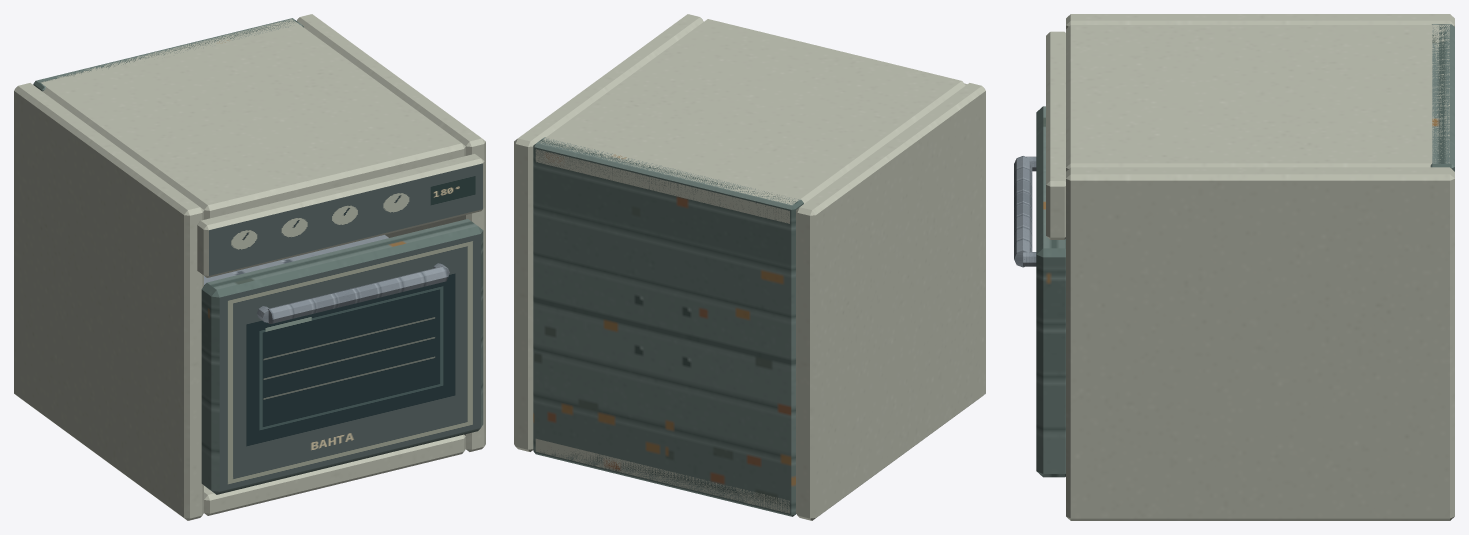
Rendered from MD_50_BuiltinOven.fbx.
3 renders of one model, left to right at view 1: azimuth 30°, elevation 25°; view 2: azimuth 150°, elevation 25°; view 3: azimuth 270°, elevation 25°, orthographic. The views are drawn at different scales.
Visible parts, largest first — view 1: MD_50_BuiltinOven_appliance_side, MD_50_BuiltinOven_oven_door, MD_50_BuiltinOven_appliance_end.001, MD_50_BuiltinOven_control_panel, MD_50_BuiltinOven_appliance_side.001, MD_50_BuiltinOven_appliance_end, MD_50_BuiltinOven_oven_handle_grip, MD_50_BuiltinOven_dark_cavity_back, MD_50_BuiltinOven_interior_rack.001; view 2: MD_50_BuiltinOven_dark_cavity_back, MD_50_BuiltinOven_appliance_side, MD_50_BuiltinOven_appliance_end.001, MD_50_BuiltinOven_appliance_side.001, MD_50_BuiltinOven_appliance_end; view 3: MD_50_BuiltinOven_appliance_side.001, MD_50_BuiltinOven_appliance_end.001, MD_50_BuiltinOven_oven_door, MD_50_BuiltinOven_appliance_side, MD_50_BuiltinOven_control_panel, MD_50_BuiltinOven_dark_cavity_back, MD_50_BuiltinOven_oven_handle_grip.
Part boxes in pixels (box(x1,y1,x2,y2)): MD_50_BuiltinOven_appliance_side: box(14, 83, 203, 520); MD_50_BuiltinOven_oven_door: box(201, 219, 483, 494); MD_50_BuiltinOven_appliance_end.001: box(40, 19, 465, 219); MD_50_BuiltinOven_control_panel: box(197, 154, 484, 277); MD_50_BuiltinOven_appliance_side.001: box(297, 14, 485, 451); MD_50_BuiltinOven_appliance_end: box(204, 434, 465, 515); MD_50_BuiltinOven_oven_handle_grip: box(267, 266, 447, 323); MD_50_BuiltinOven_dark_cavity_back: box(33, 18, 303, 91); MD_50_BuiltinOven_interior_rack.001: box(204, 235, 388, 284); MD_50_BuiltinOven_dark_cavity_back: box(533, 137, 803, 516); MD_50_BuiltinOven_appliance_side: box(796, 83, 985, 520); MD_50_BuiltinOven_appliance_end.001: box(535, 19, 965, 223); MD_50_BuiltinOven_appliance_side.001: box(514, 14, 703, 451); MD_50_BuiltinOven_appliance_end: box(535, 438, 789, 513); MD_50_BuiltinOven_appliance_side.001: box(1066, 167, 1454, 520); MD_50_BuiltinOven_appliance_end.001: box(1066, 25, 1449, 171); MD_50_BuiltinOven_oven_door: box(1036, 106, 1065, 477); MD_50_BuiltinOven_appliance_side: box(1066, 14, 1454, 28); MD_50_BuiltinOven_control_panel: box(1046, 31, 1065, 239); MD_50_BuiltinOven_dark_cavity_back: box(1430, 24, 1454, 171); MD_50_BuiltinOven_oven_handle_grip: box(1014, 156, 1032, 267).
Size of the model in its own units: 0.6 by 0.59 by 0.68.
5 materials, 5 textured.
